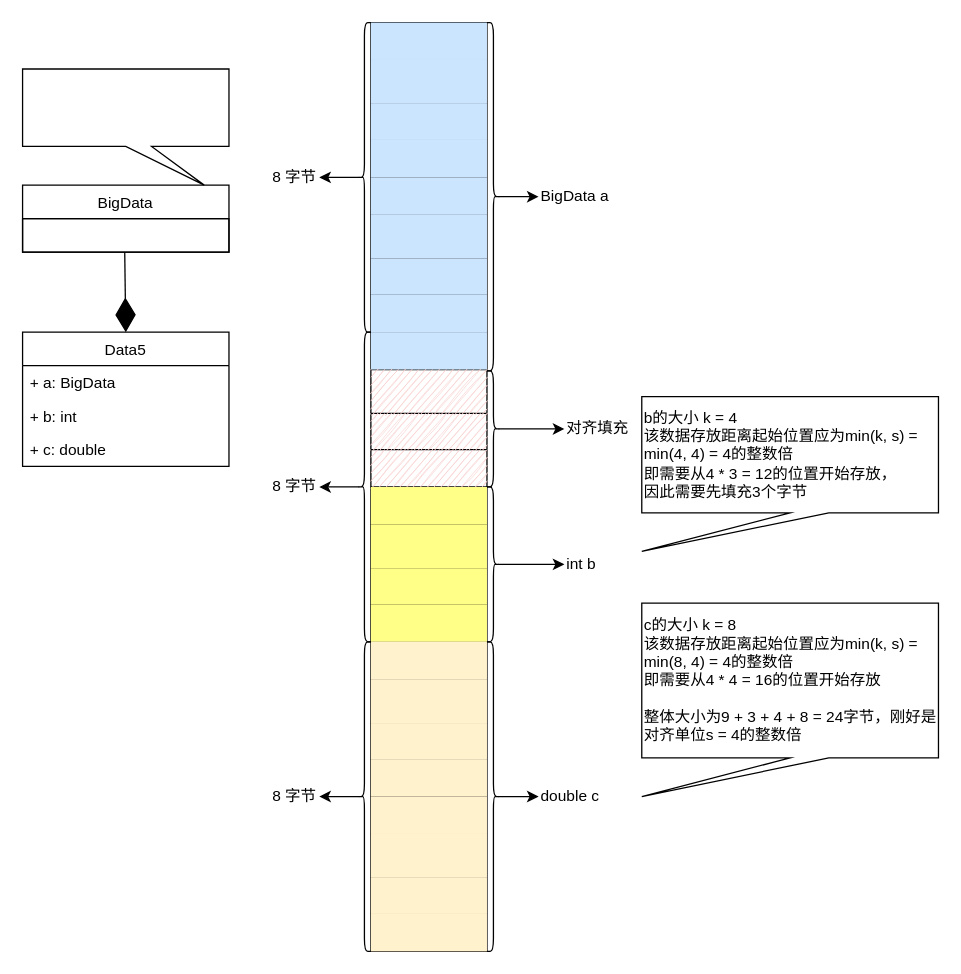
This 961x974 diagram has some shape labels left out. The shapes that lost their labels are listed below. From the top down, each one's centre as x and y in pixels, then its label:
At pixel 125 126: "编译器对齐系数 n = 4 最长数据类型长度 m = 9 对齐单位s = min(m, n) = 4".
At pixel 125 234: "+ array: char[9]".
